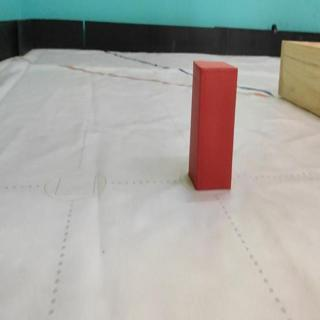redbox: (188, 59, 238, 192)
